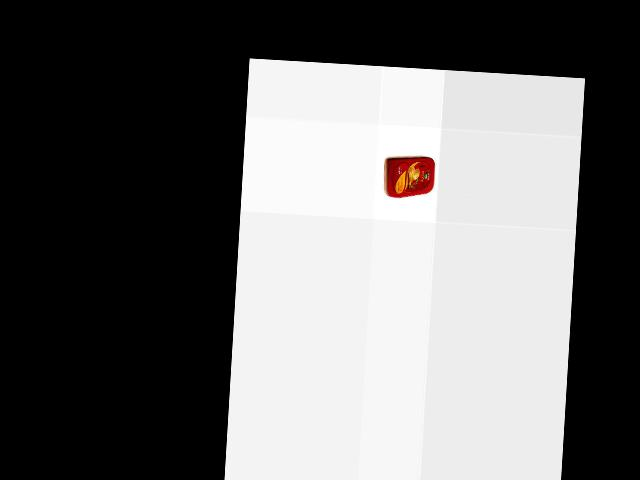cheese: (382, 153, 438, 199)
